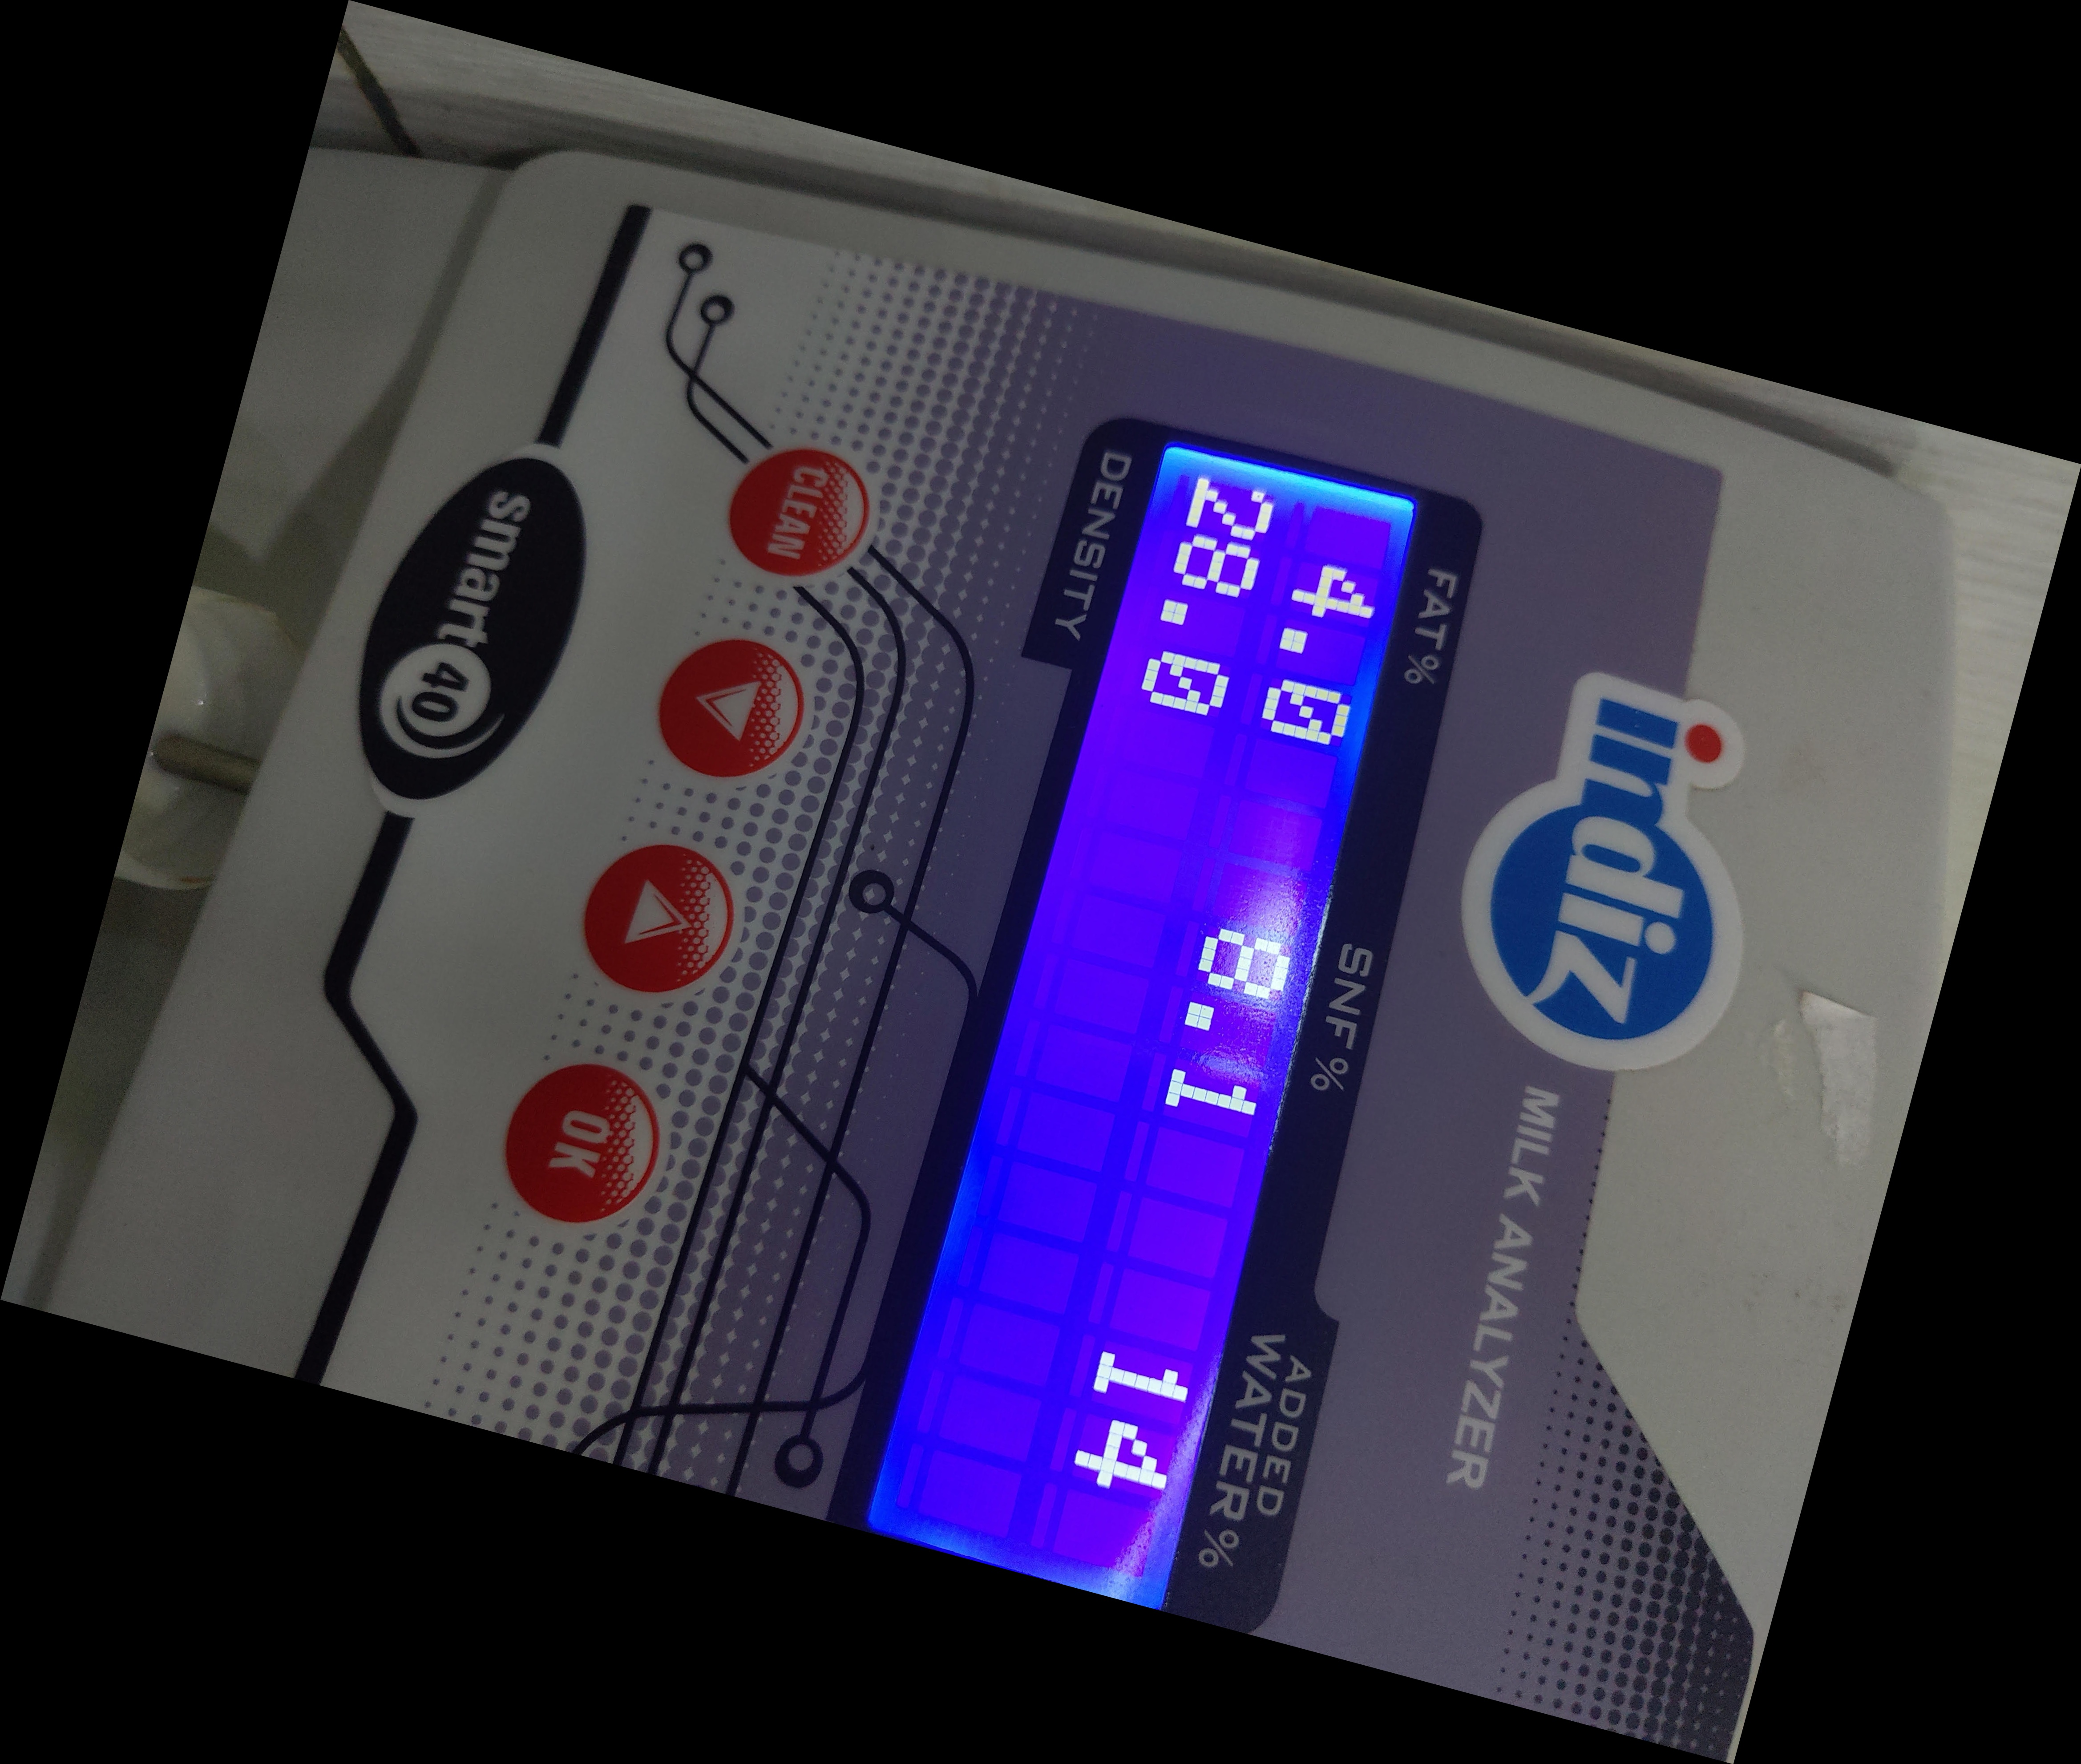lcd: (837, 411, 1500, 1638)
